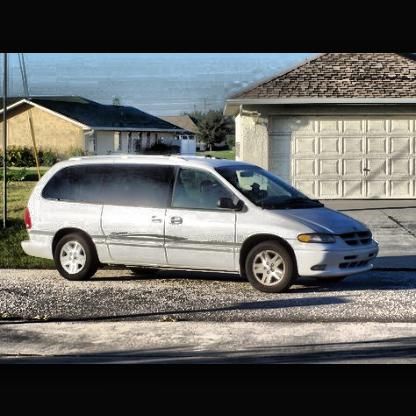Dodge Caravan Minivan 1997: (24, 155, 381, 294)
